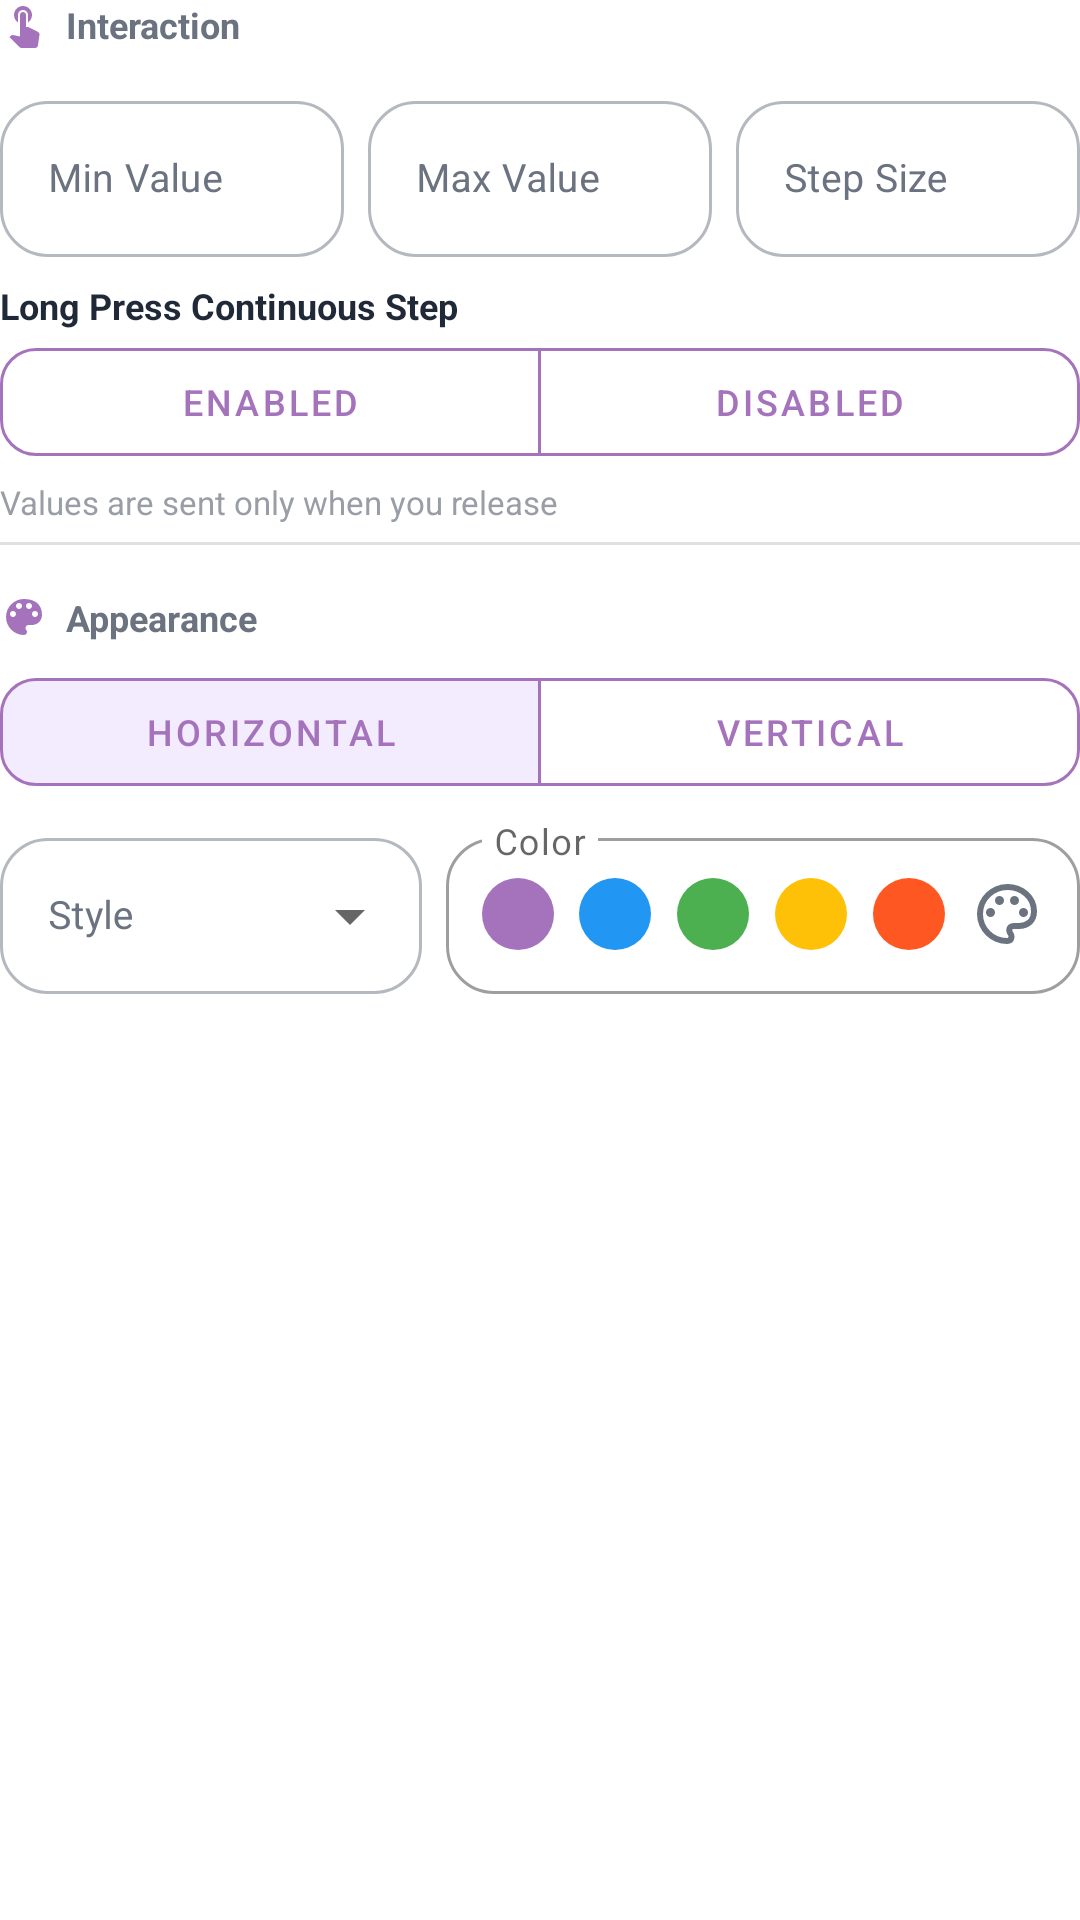

Icons on this 1080×1920 Android screen, each with its box as box(x1, y1, x2, y2):
palette: box(6, 599, 42, 635)
palette open: box(977, 884, 1037, 944)
touch app: box(9, 6, 40, 48)
